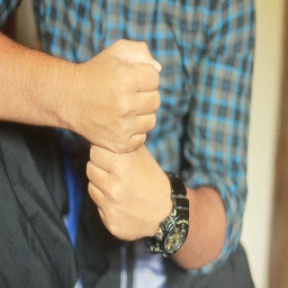G: (76, 34, 177, 245)
